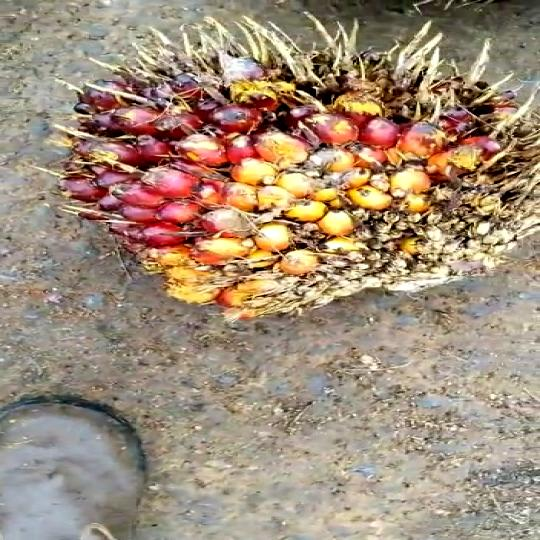masak: (60, 24, 540, 321)
